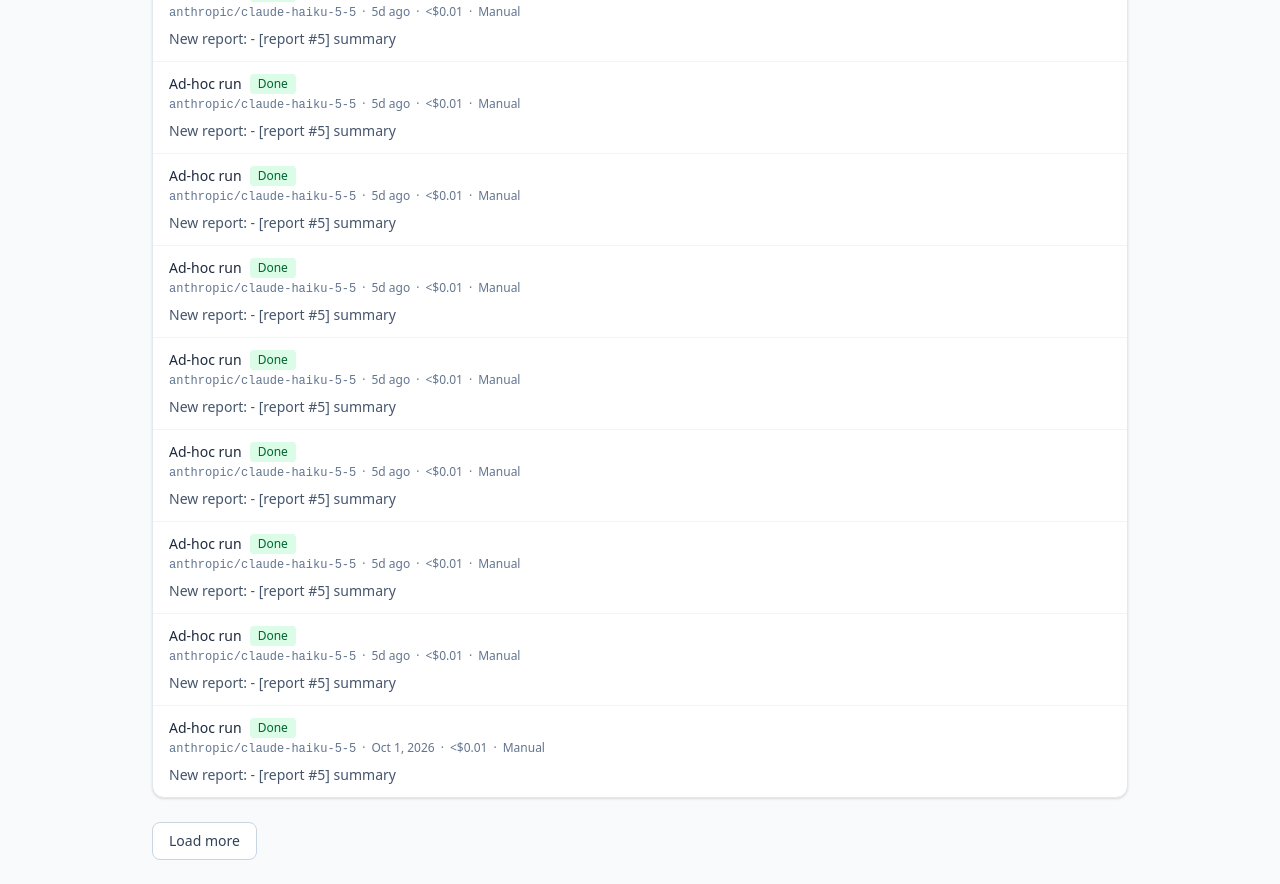
Scenario: AgentRuns › pages older runs with the before cursor until a short page
(page scrolled)
Click the button "Load more" at (204, 841), box [152,822,257,860]
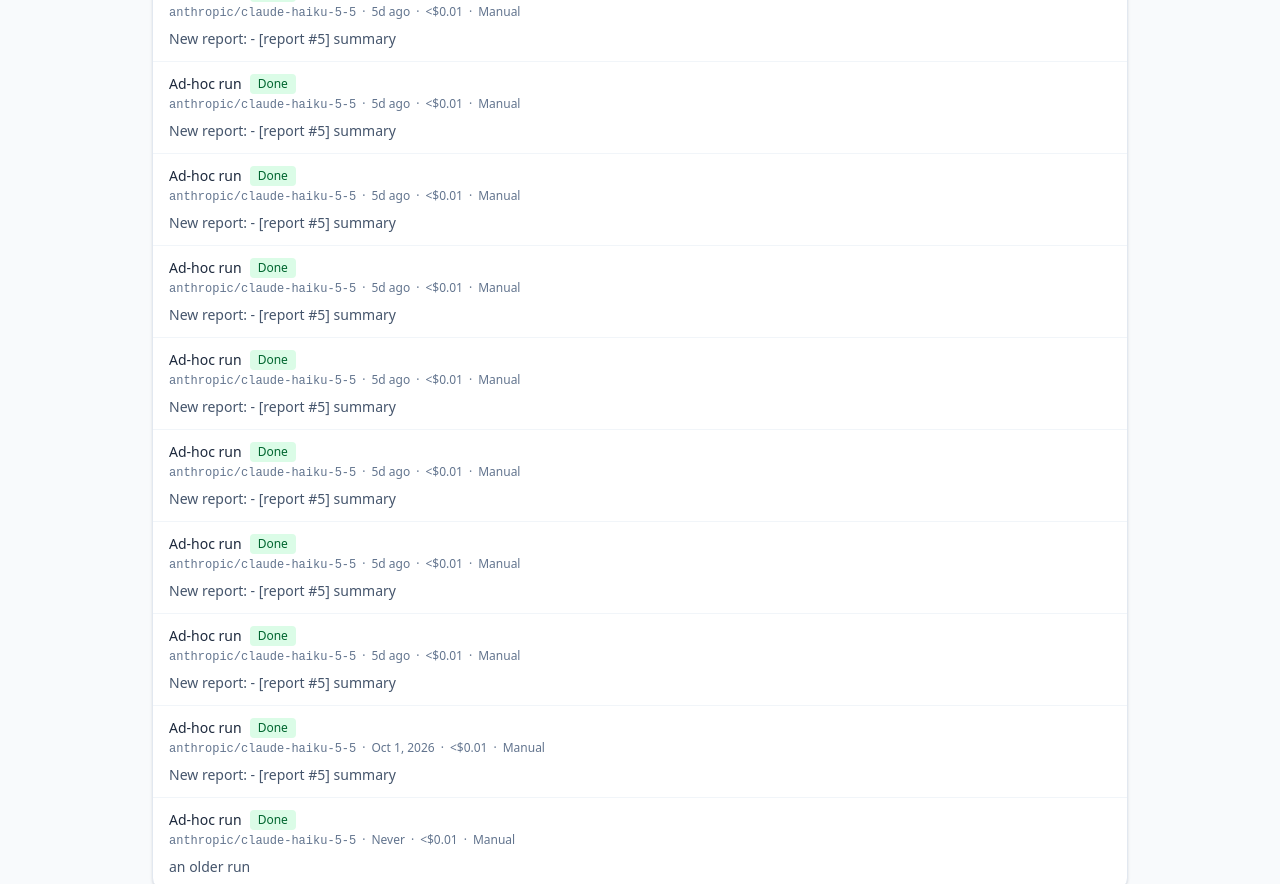
Check: the text "an older run" is shown, box [169,857,250,876]
Check: the button "Load more" is gone
